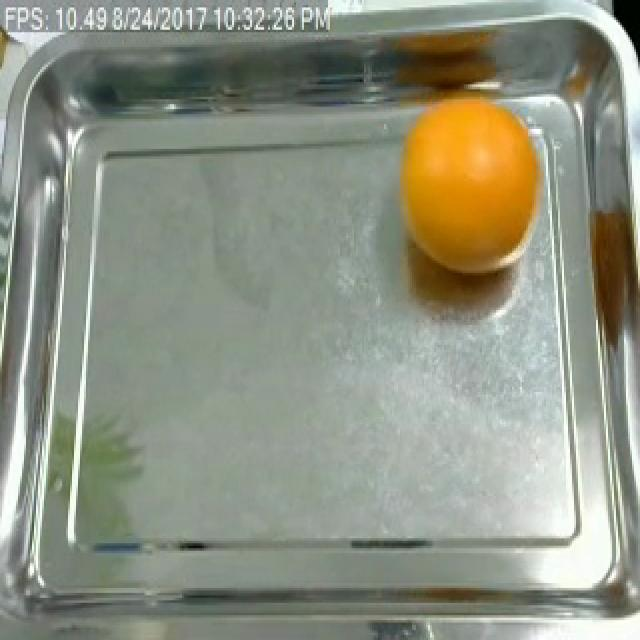Fruit: (392, 90, 556, 286), (0, 3, 18, 109)
